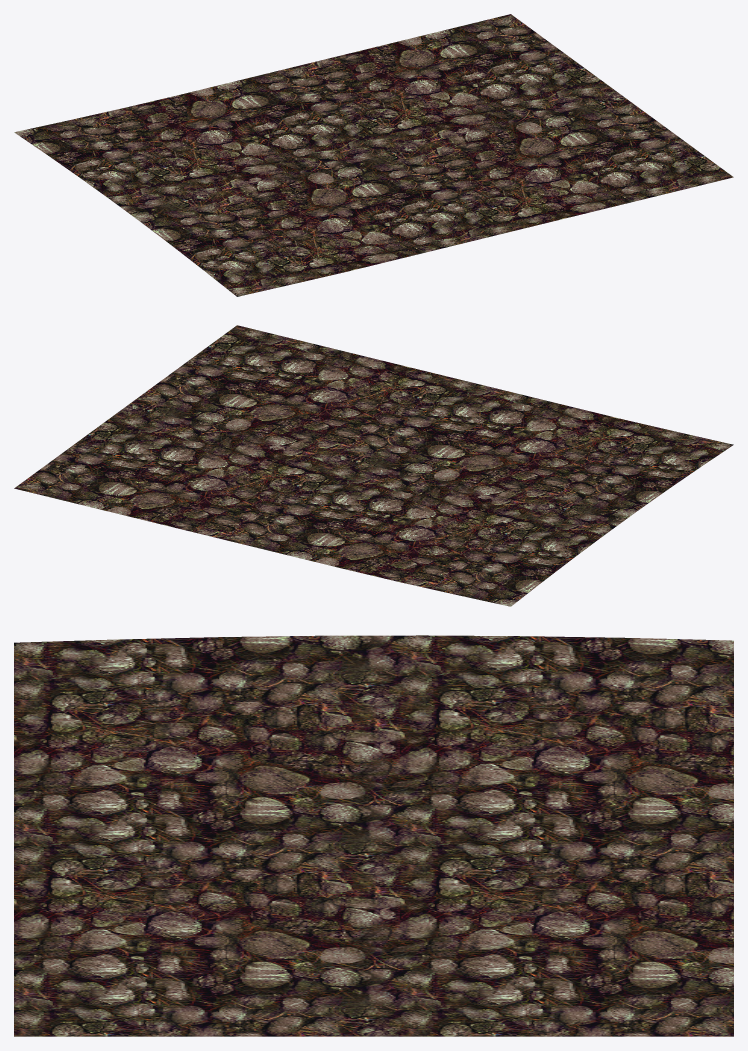
3 views of the same model, one above another, from view 1: azimuth 30°, elevation 25°; view 2: azimuth 150°, elevation 25°; view 3: azimuth 270°, elevation 25° (orthographic). The views are drawn at different scales.
Visible parts, largest first — view 1: r4; view 2: r4; view 3: r4.
Boxes of the visible parts, x1,y1,x2,y2 form: r4: [14, 14, 733, 296]; r4: [14, 325, 733, 606]; r4: [14, 635, 733, 1036].
Size of the model in its own units: 2325 by 27.23 by 1808.
